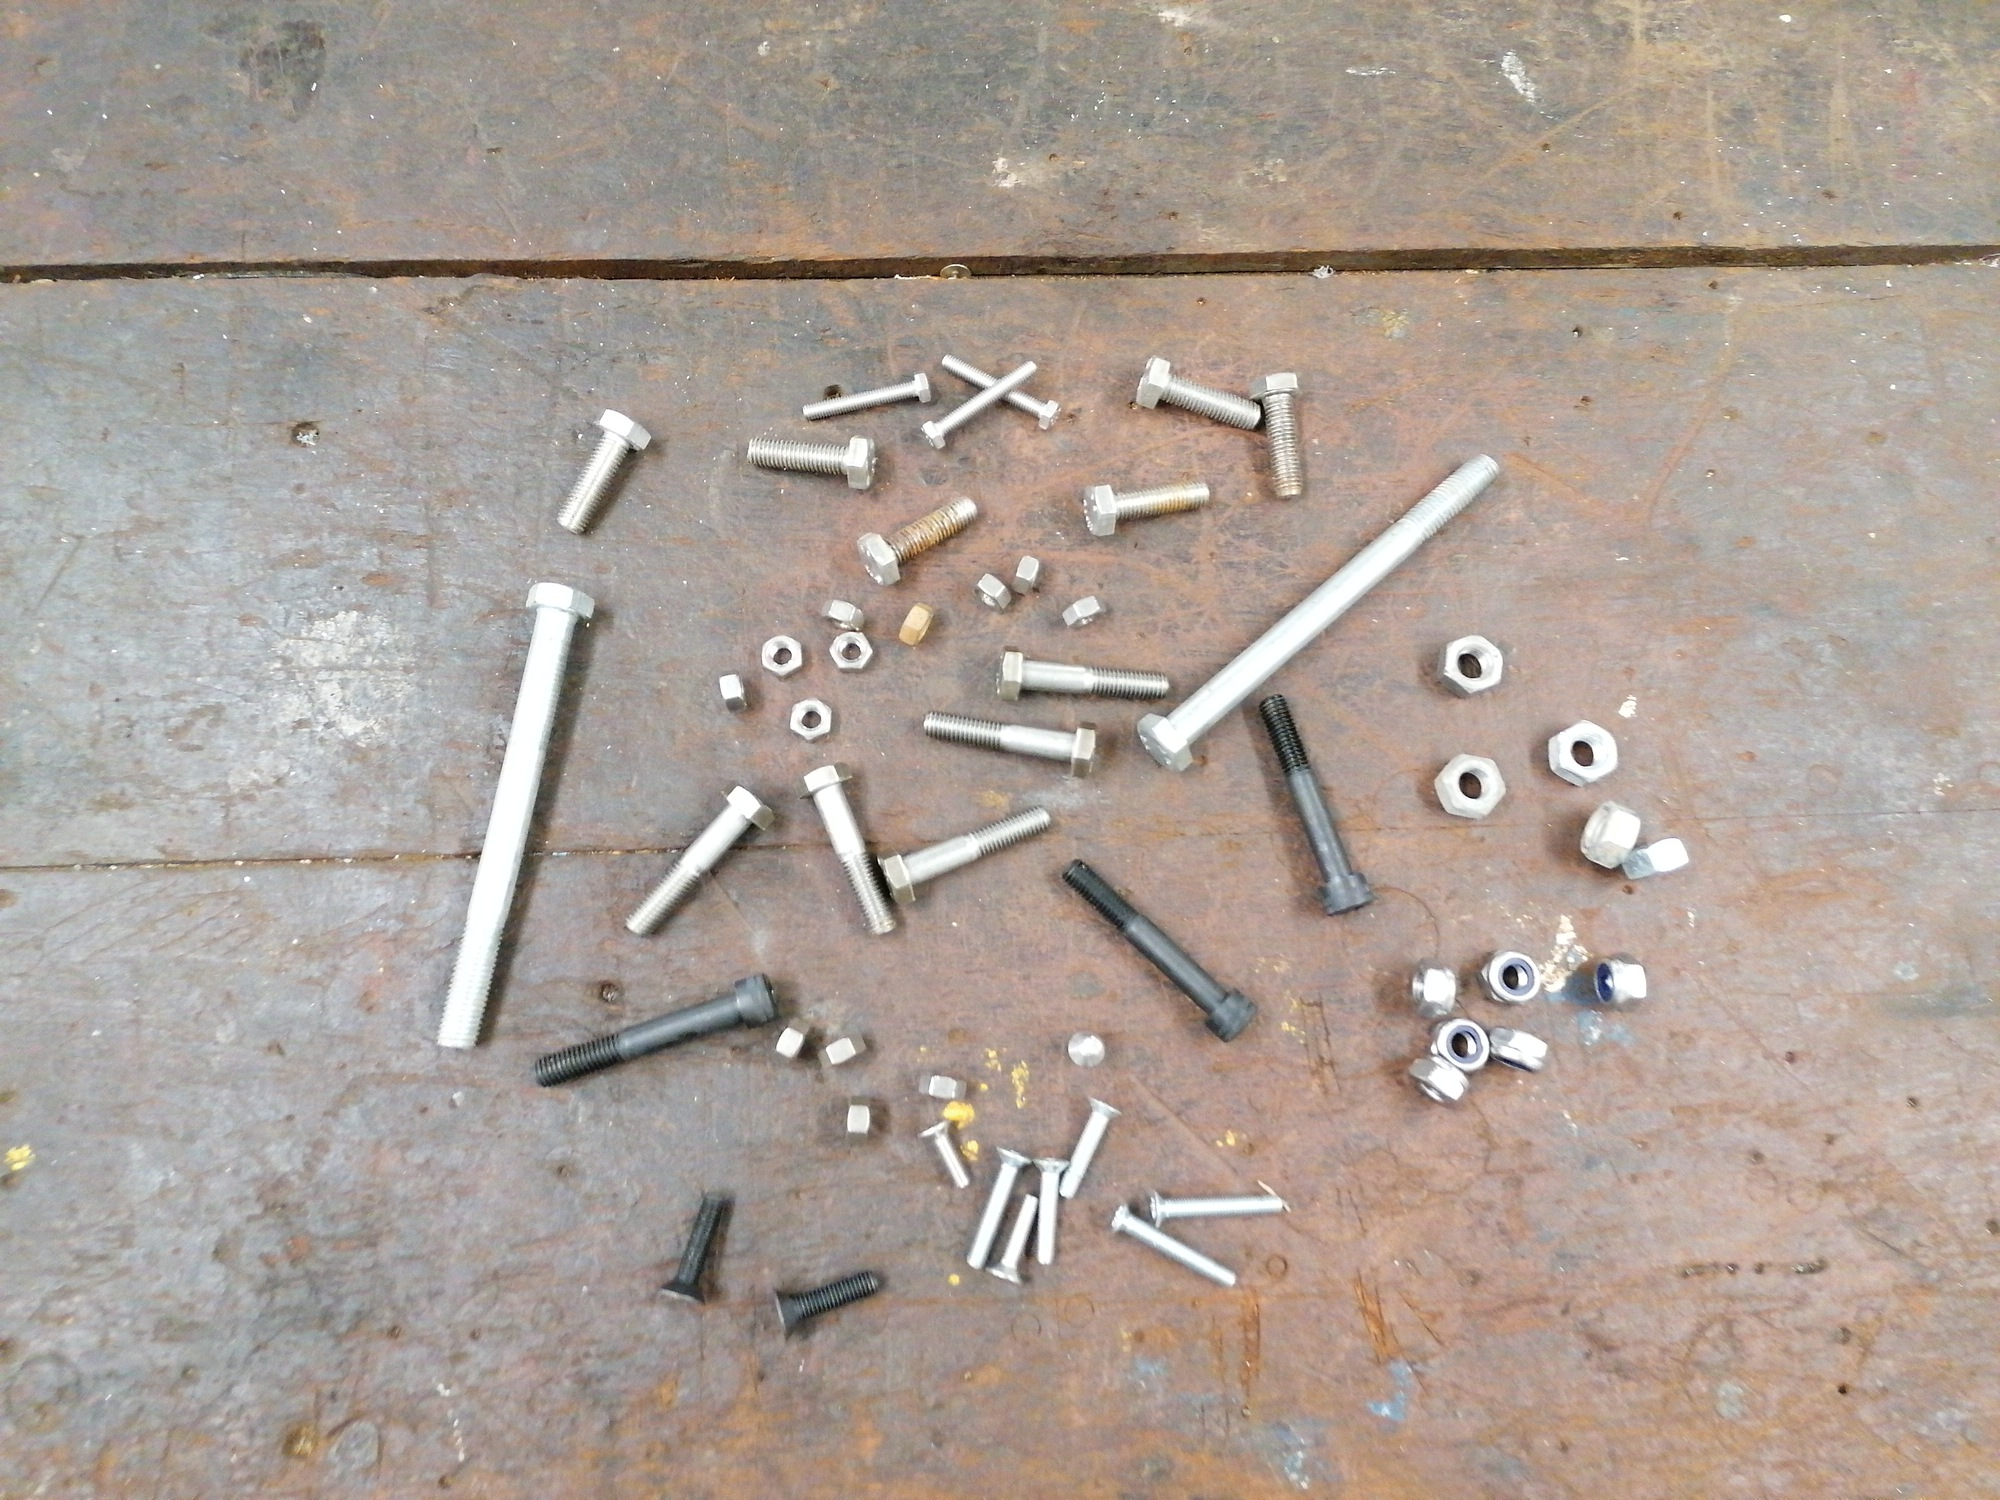bolt: (1137, 452, 1499, 772), (433, 581, 594, 1049), (1061, 857, 1258, 1043), (532, 974, 776, 1089), (1257, 692, 1375, 915), (624, 780, 775, 937), (795, 763, 898, 937), (876, 804, 1052, 904), (554, 408, 650, 537), (921, 711, 1096, 778), (994, 644, 1170, 707), (855, 495, 978, 585), (1110, 1204, 1236, 1287), (920, 359, 1036, 449), (1135, 353, 1261, 429), (940, 353, 1061, 430), (965, 1145, 1031, 1268), (657, 1190, 724, 1305), (773, 1268, 880, 1339), (1247, 370, 1304, 499), (746, 433, 876, 488), (1082, 481, 1209, 536), (802, 369, 931, 421), (1058, 1095, 1121, 1201), (1148, 1188, 1283, 1227), (984, 1193, 1038, 1286), (1031, 1155, 1069, 1265), (917, 1120, 970, 1190), (1068, 1029, 1106, 1068)
nut: (1431, 752, 1506, 821), (1546, 718, 1617, 788), (1435, 633, 1504, 700), (1580, 797, 1641, 870), (1476, 947, 1543, 1005), (1427, 1016, 1490, 1075), (1591, 952, 1650, 1008), (1620, 835, 1691, 881), (1408, 1054, 1469, 1106), (1487, 1024, 1551, 1073), (1409, 960, 1458, 1019), (816, 1030, 868, 1071), (787, 696, 833, 742), (827, 630, 874, 674), (761, 633, 802, 681), (973, 570, 1013, 614), (773, 1016, 811, 1060), (913, 1071, 969, 1101), (898, 600, 934, 644), (1061, 594, 1107, 629), (819, 597, 866, 630), (1011, 551, 1043, 594), (846, 1095, 872, 1144), (718, 671, 748, 712)
